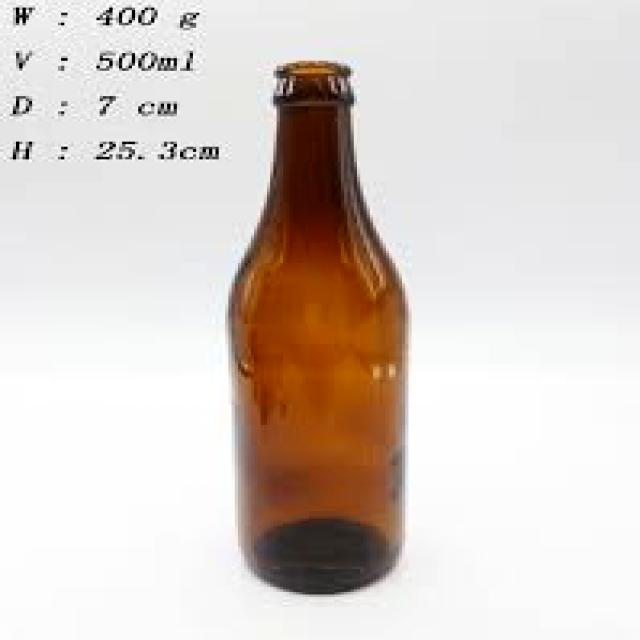Glass: (220, 51, 413, 601)
